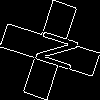N: (25, 25, 80, 74)
